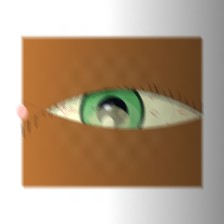corneal_ulcer: (77, 96, 143, 148)
